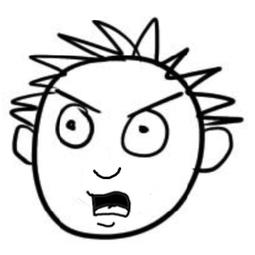ear: (189, 125, 239, 176), (9, 122, 43, 170)
eye: (120, 108, 173, 160), (53, 103, 97, 151)
frowning_eyebrow: (126, 91, 181, 120), (53, 90, 102, 113)
nose: (85, 165, 130, 181)
open_mouth: (84, 190, 135, 220)
